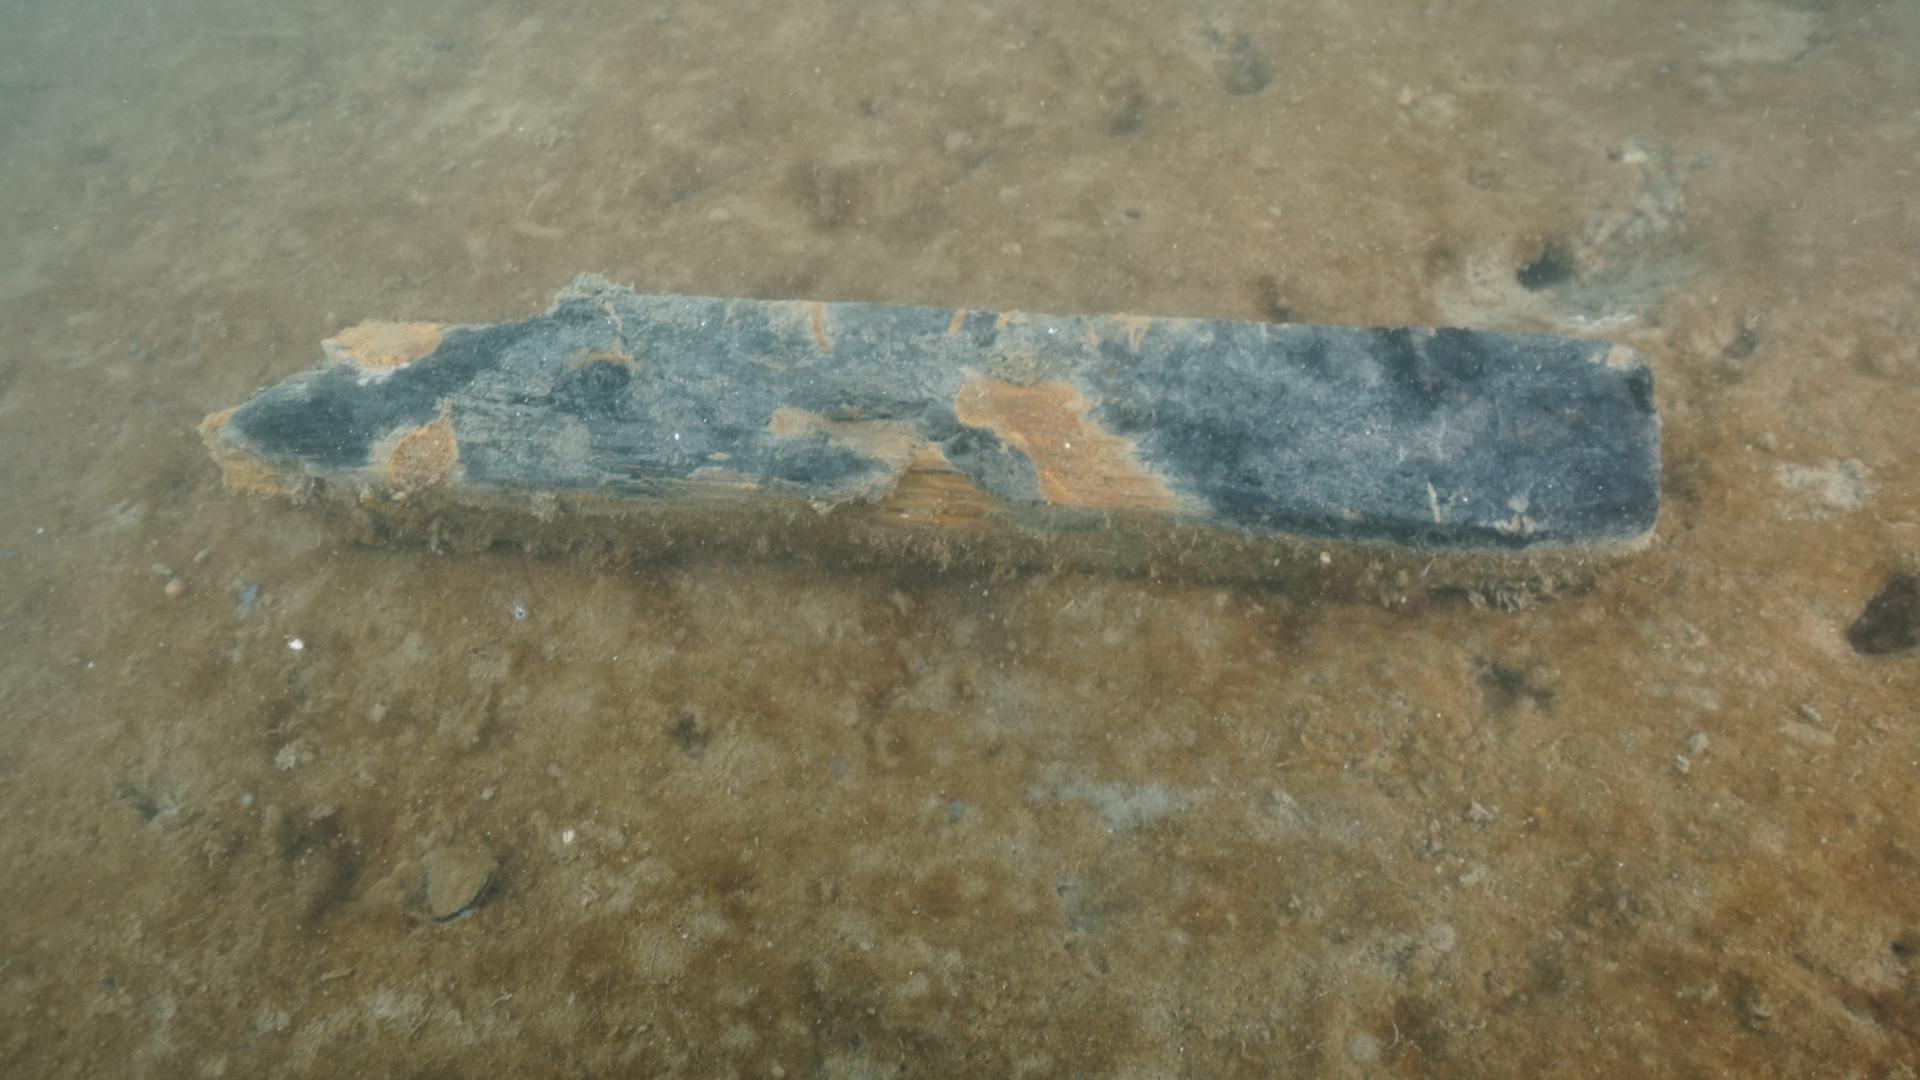wood: (193, 272, 1667, 603)
